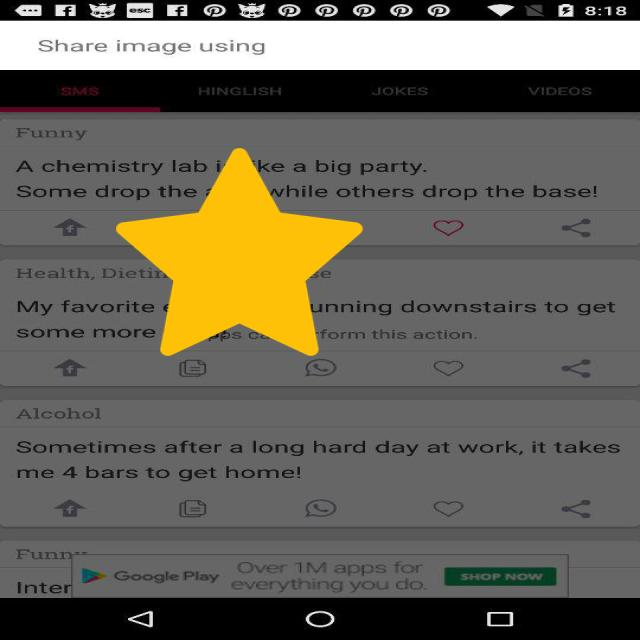forced continuity: (116, 148, 363, 356)
